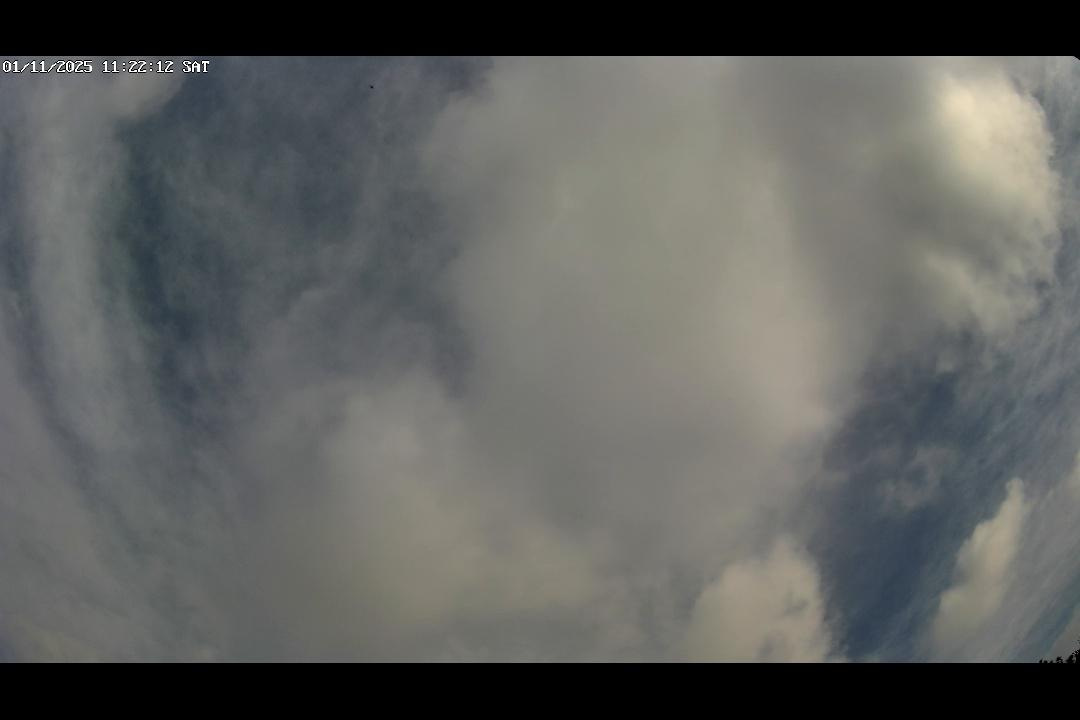Plane: (364, 80, 382, 92)
